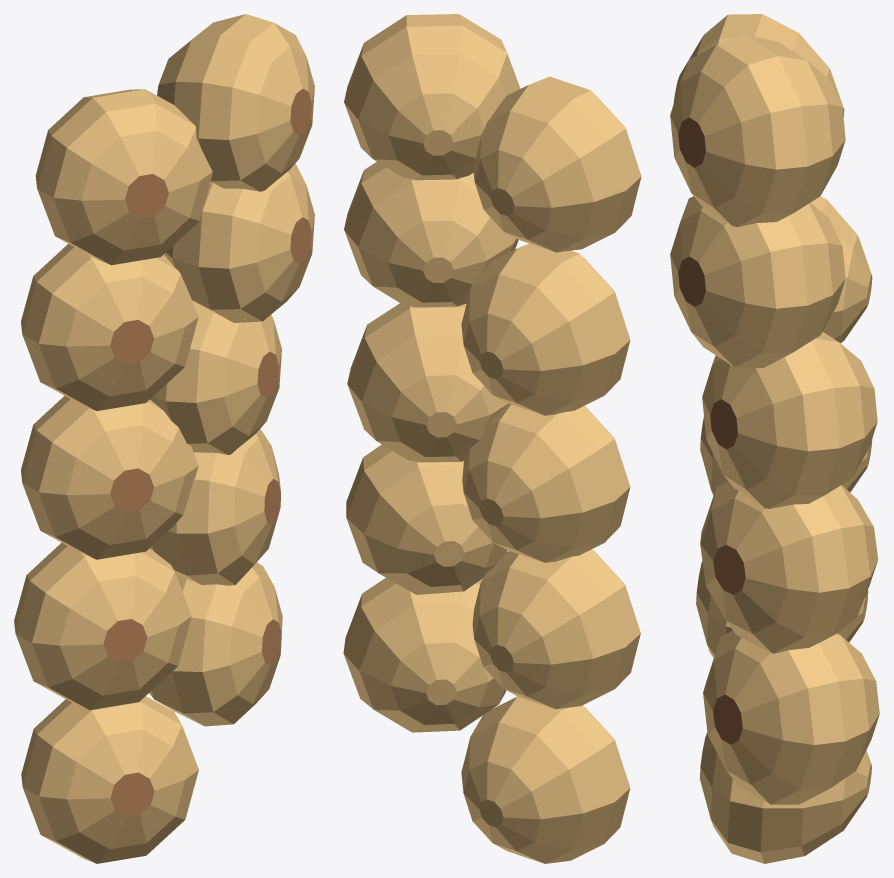
The model's file is Aglio.fbx.
The picture shows the model from 3 angles, left to right: view 1: azimuth 30°, elevation 25°; view 2: azimuth 150°, elevation 25°; view 3: azimuth 270°, elevation 25°; orthographic projection. The views are drawn at different scales.
Parts seen in each view (by area): view 1: Garlic.003; view 2: Garlic.003; view 3: Garlic.003.
Part boxes in pixels (x1=…): Garlic.003: x1=14, y1=14, x2=314, y2=863; Garlic.003: x1=343, y1=14, x2=641, y2=863; Garlic.003: x1=670, y1=14, x2=879, y2=863.
Size of the model in its own units: 57.18 by 153 by 33.54.
